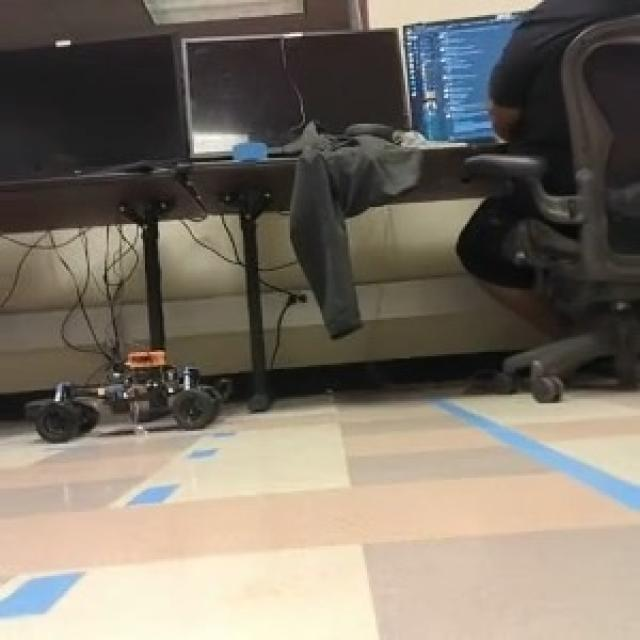obstacle: (36, 348, 221, 442)
